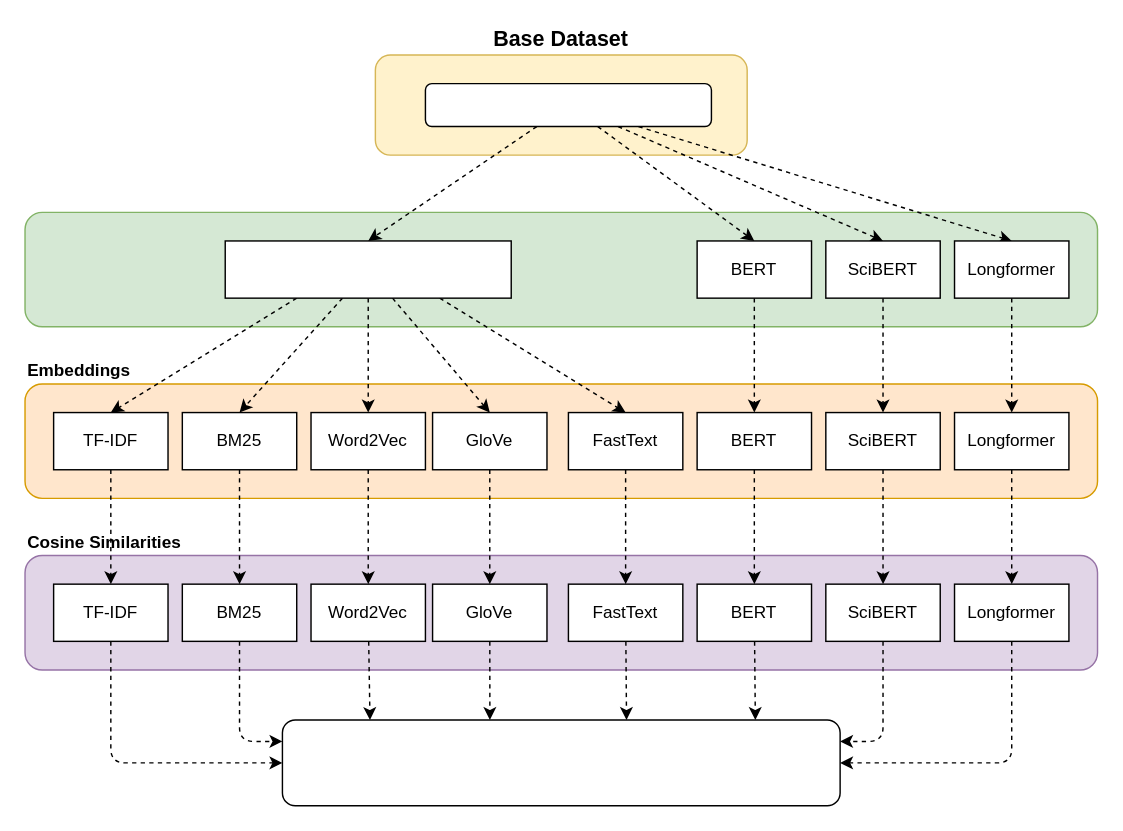
Image size: 1123x831. Some labels were removed from this diagram. The shapes that lost their labels are listed below. From the top down, each one's box as (x1, y1, x2, y2) in pixels, then its label:
(424, 82, 711, 127): Abstract
(224, 240, 511, 298): spaCy
(24, 211, 1098, 327): Tokenized Abstracts
(281, 719, 840, 806): Language Recommender
